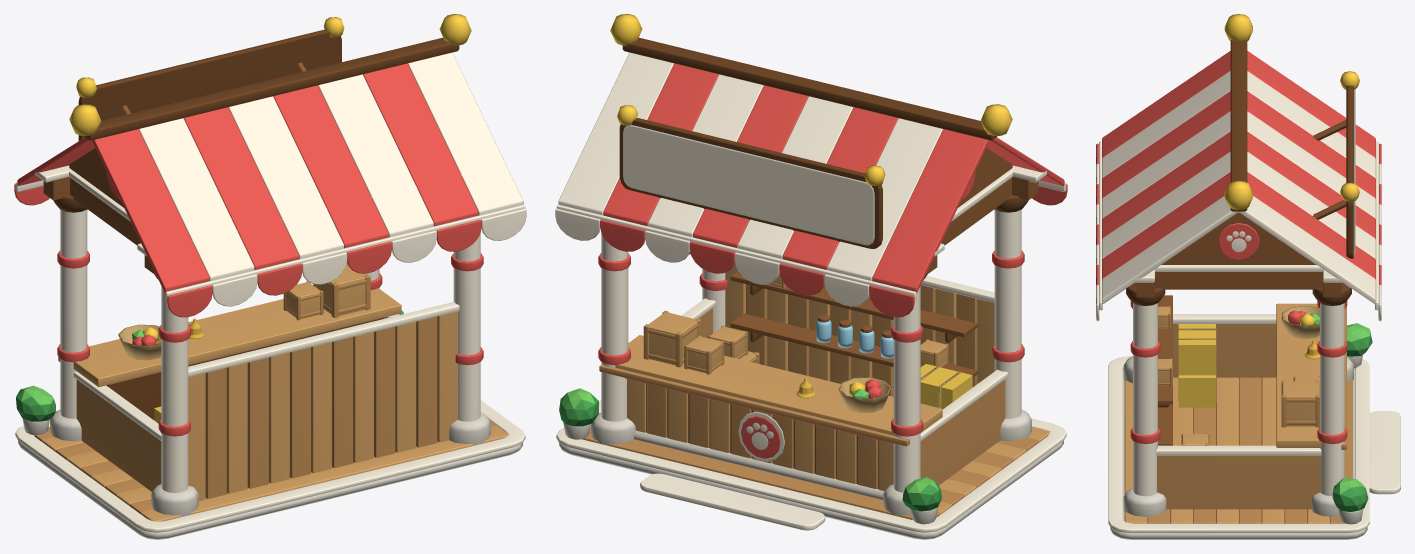
Rendered from ZooKit_Trader_v2.glb.
The picture shows the model from 3 angles, left to right: view 1: azimuth 30°, elevation 25°; view 2: azimuth 150°, elevation 25°; view 3: azimuth 270°, elevation 25°; orthographic projection. The views are drawn at different scales.
Parts seen in each view (by area): view 1: TraderStall__cream, TraderStall__red, TraderStall__plank, TraderStall__plankAlt, TraderStall__woodDark, TraderStall__stone, TraderStall__wood, TraderStall__yellow, TraderStall__rope, TraderStall__leaf; view 2: TraderStall__cream, TraderStall__red, TraderStall__plankAlt, TraderStall__plank, TraderStall__woodDark, TraderStall__stone, TraderStall__wood, TraderStall__yellow, TraderStall__hay, TraderStall__leaf, TraderStall__glass, TraderStall__rope (+1 smaller); view 3: TraderStall__cream, TraderStall__red, TraderStall__plankAlt, TraderStall__plank, TraderStall__wood, TraderStall__woodDark, TraderStall__stone, TraderStall__hay, TraderStall__yellow, TraderStall__rope, TraderStall__leaf, TraderStall__leafLight.
Boxes of the visible parts, x1,y1,x2,y2 form: TraderStall__cream: (15,52,526,532); TraderStall__red: (14,63,483,436); TraderStall__plank: (43,264,509,521); TraderStall__plankAlt: (34,262,497,514); TraderStall__woodDark: (53,29,459,419); TraderStall__stone: (18,410,522,539); TraderStall__wood: (43,62,306,274); TraderStall__yellow: (69,14,471,341); TraderStall__rope: (118,324,161,360); TraderStall__leaf: (16,311,403,421); TraderStall__cream: (555,52,1066,532); TraderStall__red: (598,63,1067,458); TraderStall__plankAlt: (582,279,1038,519); TraderStall__plank: (590,262,1050,514); TraderStall__woodDark: (619,37,1028,488); TraderStall__stone: (559,410,1063,539); TraderStall__wood: (730,148,1038,377); TraderStall__yellow: (610,14,1012,396); TraderStall__hay: (920,364,972,409); TraderStall__leaf: (559,393,941,506); TraderStall__glass: (816,320,893,358); TraderStall__rope: (838,366,961,412); TraderStall__cream: (1096,71,1400,533); TraderStall__red: (1096,51,1381,444); TraderStall__plankAlt: (1147,306,1352,523); TraderStall__plank: (1124,303,1330,523); TraderStall__wood: (1136,120,1346,445); TraderStall__woodDark: (1126,40,1353,407); TraderStall__stone: (1110,355,1367,539); TraderStall__hay: (1178,324,1215,407); TraderStall__yellow: (1224,14,1359,325); TraderStall__rope: (1178,305,1319,401); TraderStall__leaf: (1332,331,1372,509); TraderStall__leafLight: (1310,313,1370,493).
Size of the model in its own units: 20.44 by 18.95 by 14.68.
